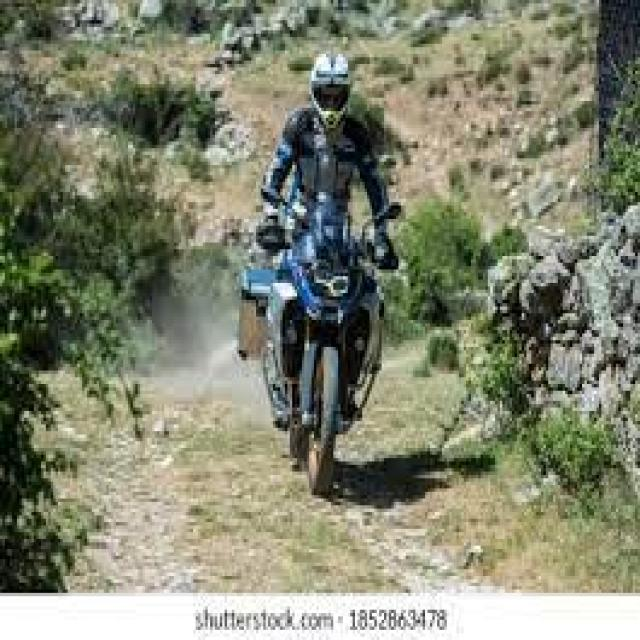Bike: (240, 184, 404, 499)
